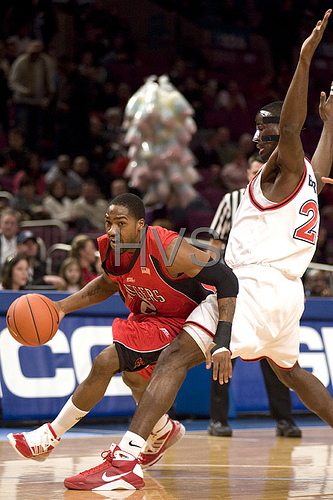basketball: (5, 293, 59, 347)
